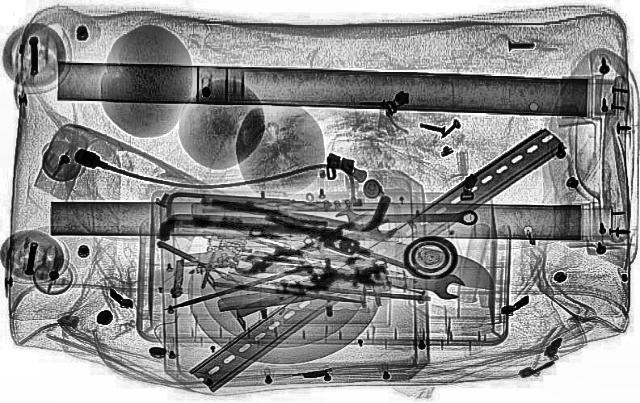Knife: (188, 195, 510, 293)
